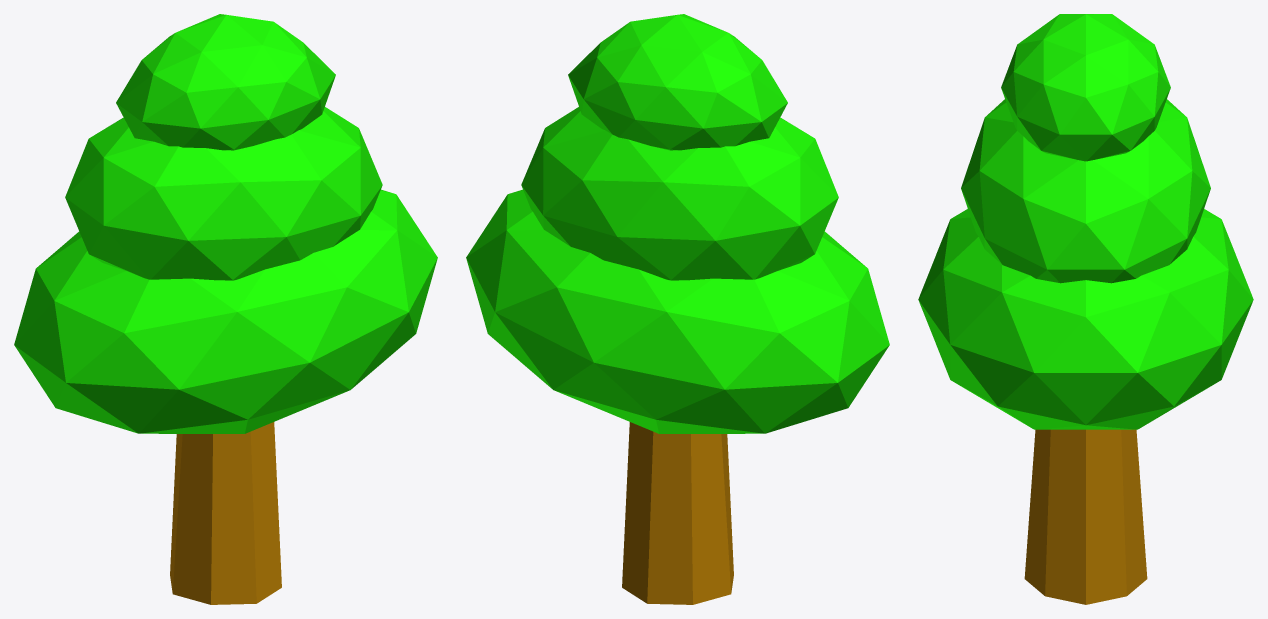
File: Tree_5.fbx
3 views of the same model, side by side, from view 1: azimuth 30°, elevation 25°; view 2: azimuth 150°, elevation 25°; view 3: azimuth 270°, elevation 25° (orthographic).
Parts seen in each view (by area): view 1: Leaf, Leaf3, Leaf2, Trunk; view 2: Leaf, Leaf3, Leaf2, Trunk; view 3: Leaf, Leaf3, Leaf2, Trunk.
Part boxes in pixels (x1,y1,x2,y2): Leaf: (14,189,437,433); Leaf3: (65,107,382,280); Leaf2: (116,14,335,150); Trunk: (170,422,281,604); Leaf: (466,189,889,433); Leaf3: (521,107,838,280); Leaf2: (568,14,787,150); Trunk: (622,422,733,604); Leaf: (918,209,1253,429); Leaf3: (961,99,1210,283); Leaf2: (1001,14,1170,161); Trunk: (1024,429,1147,604).
Bounding box in the file's own units: 98.19 × 143 × 76.87.
